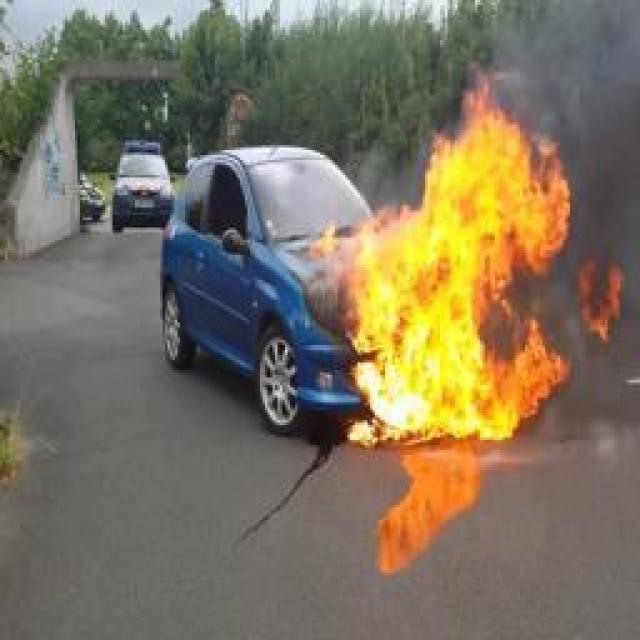Fire: (322, 72, 576, 448)
